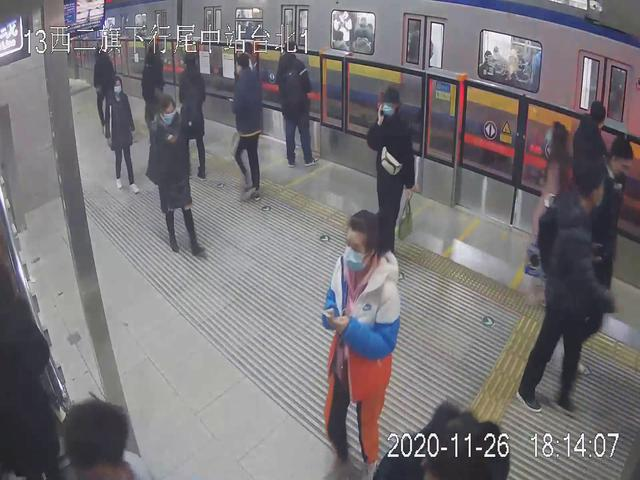person: (324, 207, 398, 479), (522, 161, 601, 414), (147, 95, 207, 260), (528, 120, 574, 300), (368, 84, 410, 276), (230, 54, 266, 202), (275, 42, 316, 166), (104, 75, 142, 197), (177, 51, 212, 179), (93, 37, 121, 141)
